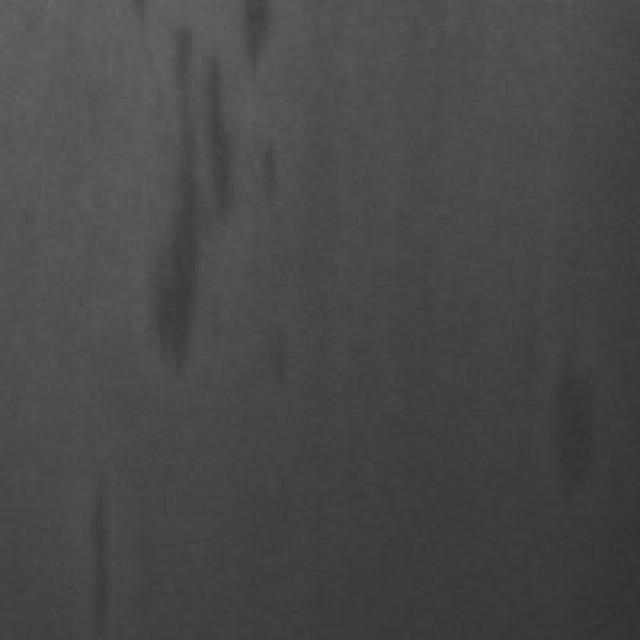inclusion: (137, 0, 291, 374), (518, 342, 605, 509), (70, 454, 128, 634), (252, 304, 314, 406)
